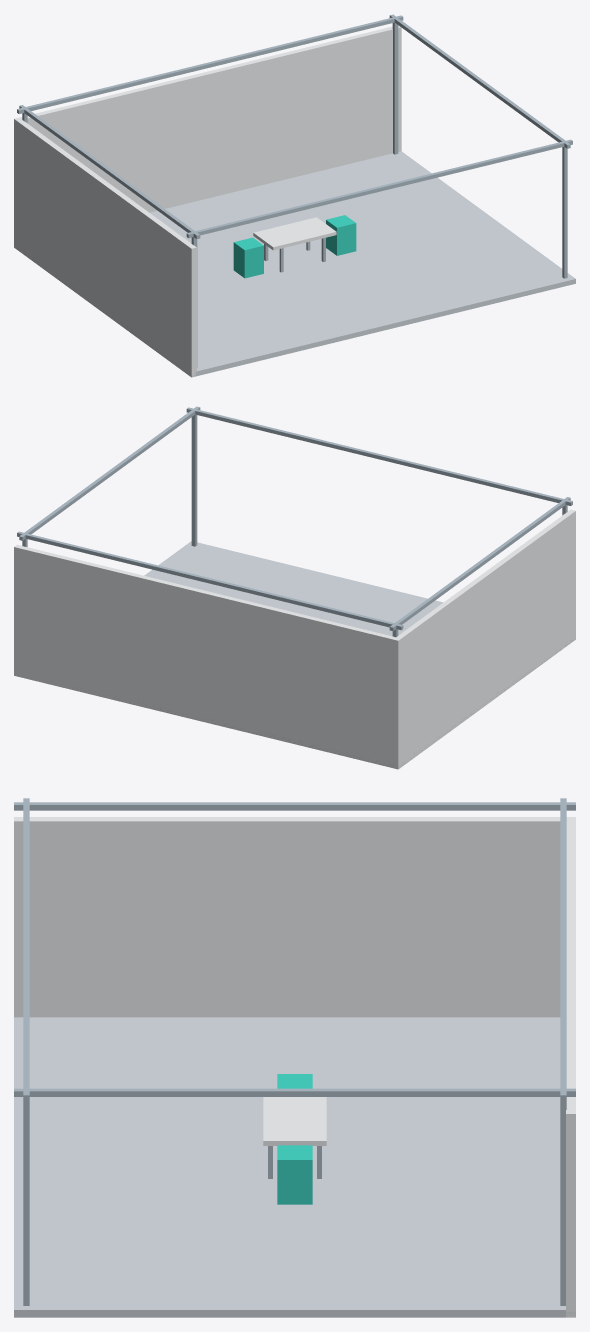
3 views of the same model, one above another, from view 1: azimuth 30°, elevation 25°; view 2: azimuth 150°, elevation 25°; view 3: azimuth 270°, elevation 25° (orthographic). The views are drawn at different scales.
Visible parts, largest first — view 1: Exhibition Booth Concept; view 2: Exhibition Booth Concept; view 3: Exhibition Booth Concept.
Part boxes in pixels (x1,y1,x2,y2): Exhibition Booth Concept: (14,14,575,377); Exhibition Booth Concept: (14,406,575,769); Exhibition Booth Concept: (14,798,575,1317).
Bounding box in the file's own units: 10 × 3.49 × 8.
